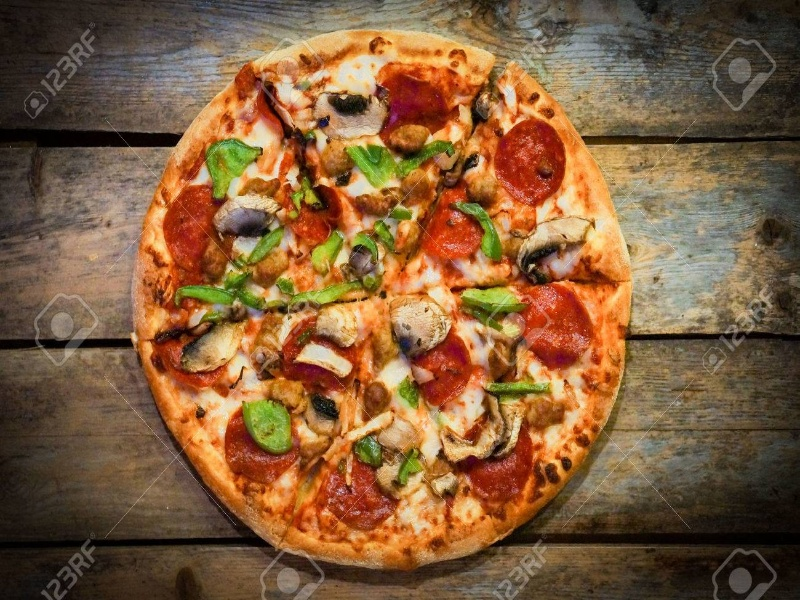pepperonis: (511, 283, 597, 367), (495, 116, 564, 207), (163, 183, 228, 279), (314, 460, 392, 531), (380, 71, 460, 138), (404, 334, 477, 405), (422, 186, 481, 253)
